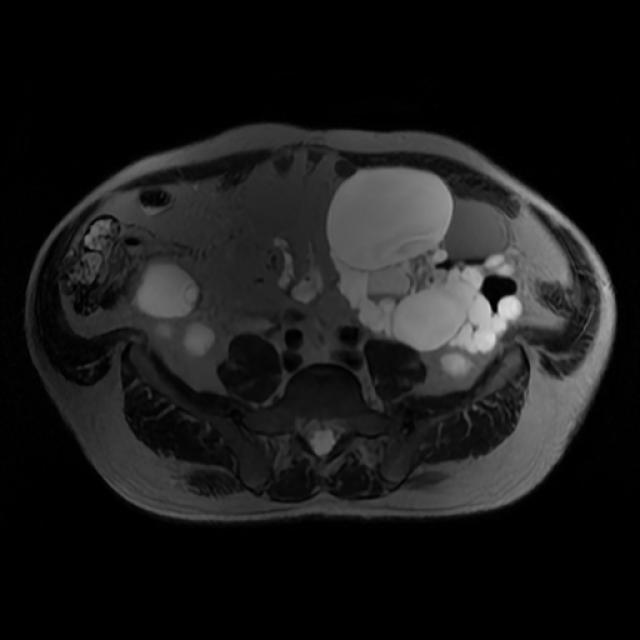sag: (136, 262, 201, 334), (184, 321, 219, 356)
sol: (327, 166, 519, 374)
